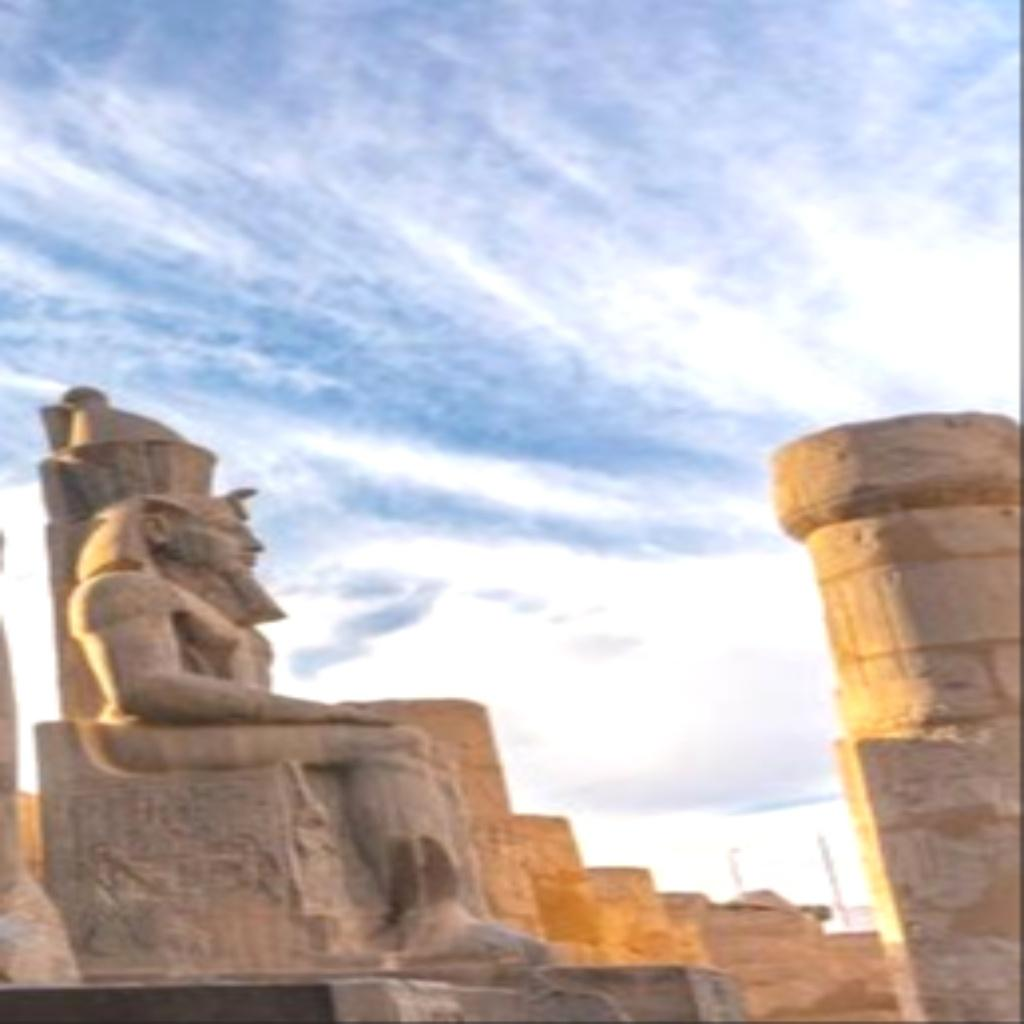Statue of King Ramses II Luxor Temple: (52, 386, 552, 966)
